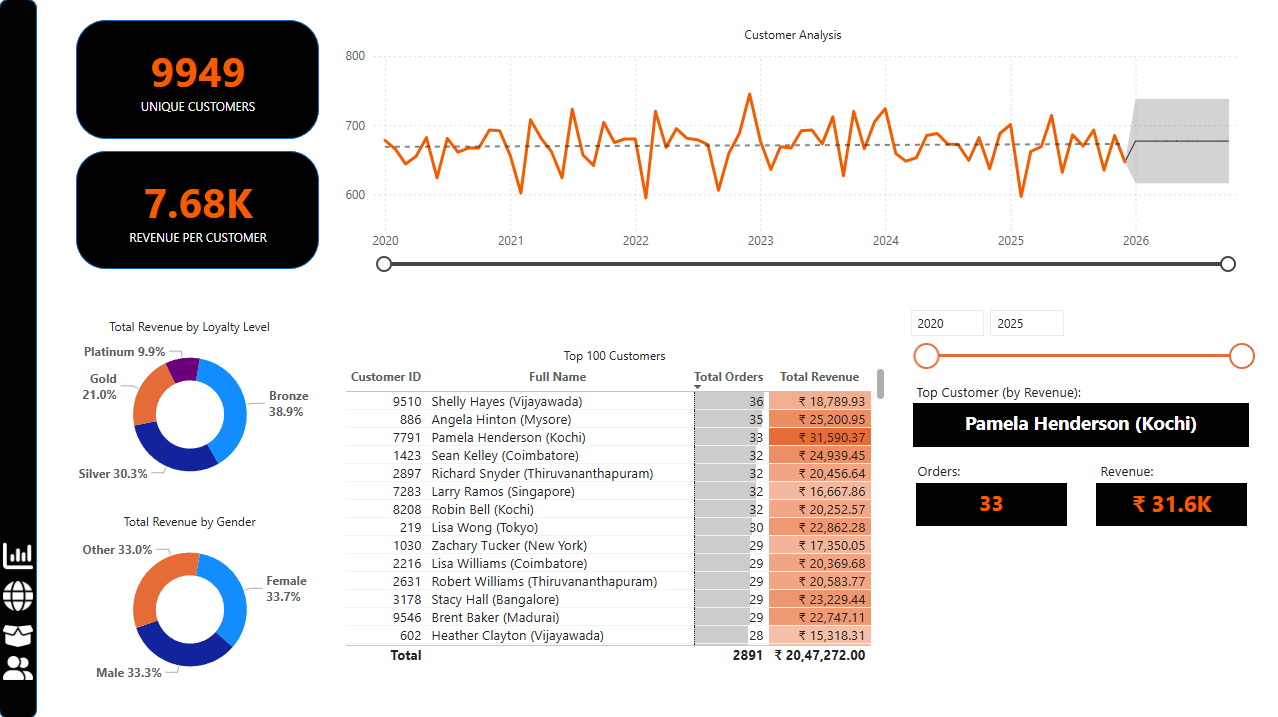

The dashboard page shown, as its layout file describes it:
{"tool":"powerbi","page":{"name":"Customer Details","canvas":[1280,720],"ordinal":3},"visuals":[{"type":"shape","title":"Navigation BG","box":[0,0,37.8,720],"z":0},{"type":"actionButton","box":[0,536.7,37.8,40],"z":0,"group":"g1"},{"type":"shape","box":[76.5,21,243.2,118.5],"z":1000},{"type":"actionButton","box":[0,648.9,37.8,40],"z":1000,"group":"g1"},{"type":"card","fields":{"Values":["Measure Table.Total Customers"]},"box":[93.8,32.1,209.9,95.1],"z":2000},{"type":"actionButton","box":[0,576.7,37.8,40],"z":2000,"group":"g1"},{"type":"shape","box":[76.5,151.9,243.2,118.5],"z":3000},{"type":"actionButton","box":[0,616.7,37.8,40],"z":3000,"group":"g1"},{"type":"card","fields":{"Values":["Measure Table.Revenue per Customer"]},"box":[93.8,163,209.9,95.1],"z":4000},{"type":"lineChart","title":"Customer Analysis","fields":{"Category":["date_table.StartOfMonth"],"Y":["Measure Table.Total Customers"]},"box":[340.9,27.3,906.8,248.9],"z":5000},{"type":"donutChart","title":"Total Revenue by Loyalty Level","fields":{"Y":["Measure Table.Total Revenue"],"Category":["customers.LoyaltyLevel"]},"box":[61.7,318.5,258,177.8],"z":6000},{"type":"donutChart","title":"Total Revenue by Gender","fields":{"Y":["Measure Table.Total Revenue"],"Category":["customers.Gender"]},"box":[61.7,513.6,258,177.8],"z":7000},{"type":"tableEx","title":"Top 100 Customers","fields":{"Values":["customers.CustomerID","customers.CustomerName","Sum(sales.Quantity)","Measure Table.Total Revenue"]},"box":[340.9,347.7,550,321.6],"z":8000},{"type":"card","fields":{"Values":["Min(customers.CustomerName)"]},"box":[914.2,404.2,335.6,43.3],"z":9000},{"type":"card","fields":{"Values":["Sum(sales.Quantity)"]},"box":[917,484.1,151.1,43.2],"z":10000},{"type":"card","fields":{"Values":["Measure Table.Total Revenue"]},"box":[1096.6,484.1,151.1,43.2],"z":11000},{"type":"textbox","box":[913.1,378.7,183.3,51.1],"z":12000},{"type":"textbox","box":[1096.6,458,151.1,51.1],"z":13000},{"type":"textbox","box":[913.6,458,115.9,51.1],"z":14000},{"type":"slicer","fields":{"Values":["date_table.Year"]},"box":[898.9,301.1,364.8,77.3],"z":15000},{"type":"group","id":"g1","title":"Group 1","box":[0,536.7,37.8,152.2],"z":16000}]}

Visuals, with their boxes on the page's 1280x720 design canvas (x1, y1, x2, y2). These are canvas units, not pixel positions in the 1278x717 screenshot, which may show the page scaled, cropped or inside an application window:
"Navigation BG" shape: (x1=0, y1=0, x2=38, y2=720)
actionButton: (x1=0, y1=537, x2=38, y2=577)
shape: (x1=76, y1=21, x2=320, y2=140)
actionButton: (x1=0, y1=649, x2=38, y2=689)
card - Measure Table.Total Customers: (x1=94, y1=32, x2=304, y2=127)
actionButton: (x1=0, y1=577, x2=38, y2=617)
shape: (x1=76, y1=152, x2=320, y2=270)
actionButton: (x1=0, y1=617, x2=38, y2=657)
card - Measure Table.Revenue per Customer: (x1=94, y1=163, x2=304, y2=258)
"Customer Analysis" lineChart: (x1=341, y1=27, x2=1248, y2=276)
"Total Revenue by Loyalty Level" donutChart: (x1=62, y1=318, x2=320, y2=496)
"Total Revenue by Gender" donutChart: (x1=62, y1=514, x2=320, y2=691)
"Top 100 Customers" tableEx: (x1=341, y1=348, x2=891, y2=669)
card - Min(customers.CustomerName): (x1=914, y1=404, x2=1250, y2=448)
card - Sum(sales.Quantity): (x1=917, y1=484, x2=1068, y2=527)
card - Measure Table.Total Revenue: (x1=1097, y1=484, x2=1248, y2=527)
textbox: (x1=913, y1=379, x2=1096, y2=430)
textbox: (x1=1097, y1=458, x2=1248, y2=509)
textbox: (x1=914, y1=458, x2=1030, y2=509)
slicer - date_table.Year: (x1=899, y1=301, x2=1264, y2=378)
"Group 1" group: (x1=0, y1=537, x2=38, y2=689)
